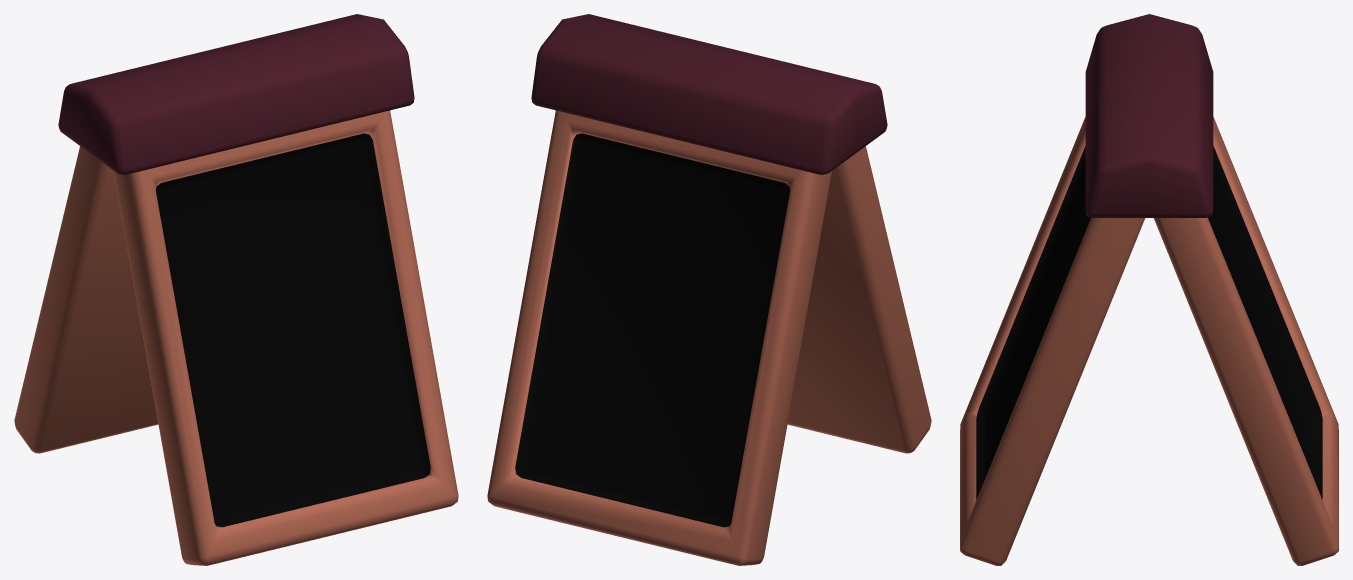
The model's file is Sign_Outside.glb.
3 views of the same model, side by side, from view 1: azimuth 30°, elevation 25°; view 2: azimuth 150°, elevation 25°; view 3: azimuth 270°, elevation 25° (orthographic).
Parts seen in each view (by area): view 1: Sign_Outside; view 2: Sign_Outside; view 3: Sign_Outside.
Boxes of the visible parts, <box> form: Sign_Outside: <box>14,14,458,565</box>; Sign_Outside: <box>487,14,931,565</box>; Sign_Outside: <box>960,14,1338,565</box>.
Size of the model in its own units: 0.4001 by 0.5437 by 0.4414.
1 material, 1 textured.
